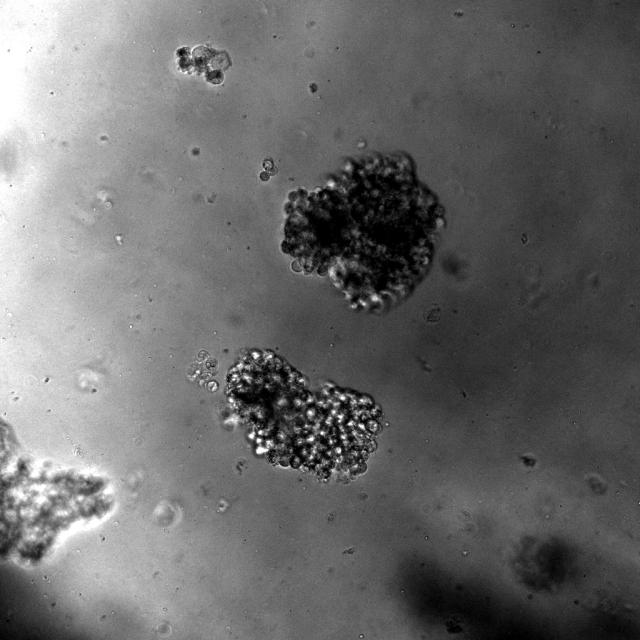organoid: (282, 153, 444, 309), (222, 349, 382, 482), (0, 419, 114, 565), (174, 43, 231, 85), (186, 350, 218, 391), (259, 157, 278, 181)
